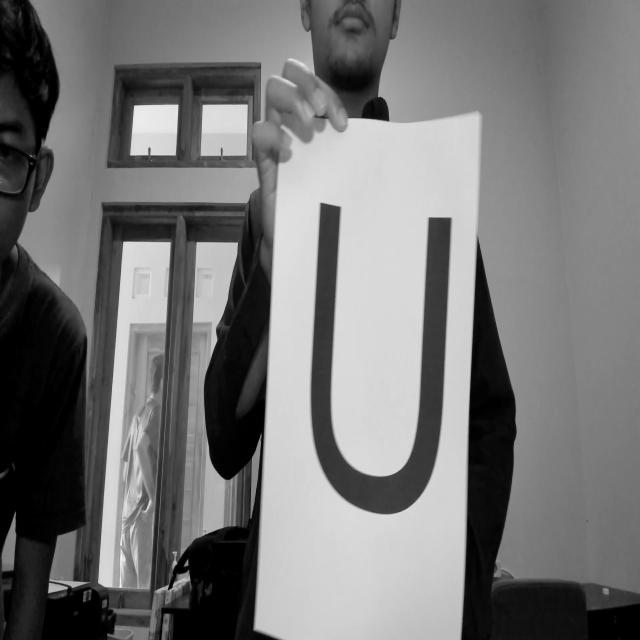u: (292, 177, 468, 570)
